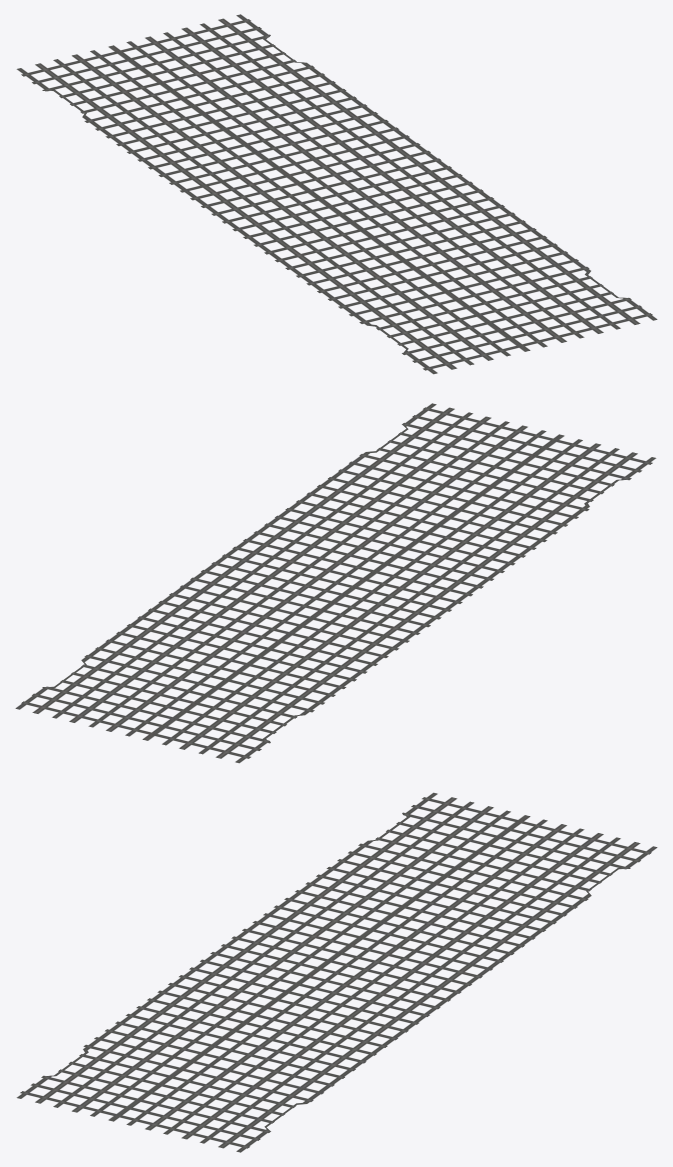
The picture shows the model from 3 angles, top to bottom: view 1: azimuth 30°, elevation 25°; view 2: azimuth 150°, elevation 25°; view 3: azimuth 330°, elevation 25°; orthographic projection.
Visible parts, largest first — view 1: body0_model0_lod0_mesh0; view 2: body0_model0_lod0_mesh0; view 3: body0_model0_lod0_mesh0.
Boxes of the visible parts, <box> form: body0_model0_lod0_mesh0: <box>16,14,657,374</box>; body0_model0_lod0_mesh0: <box>15,403,656,763</box>; body0_model0_lod0_mesh0: <box>16,792,657,1152</box>.
Bounding box in the file's own units: 36.68 × 2.58e-14 × 116.
Materials: 1 (1 with a texture image).
